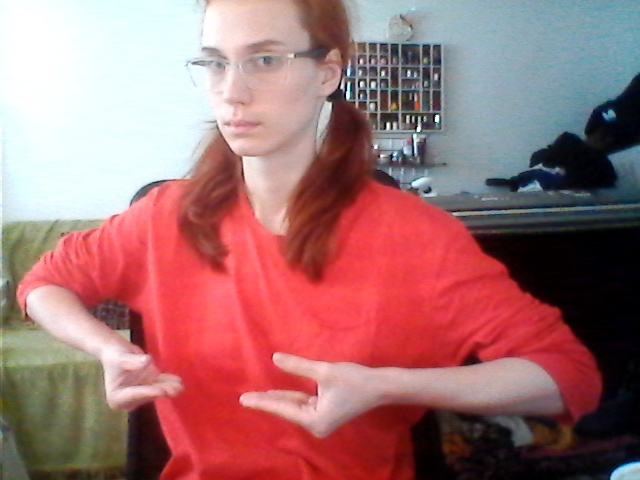drzat: (92, 332, 375, 441)
